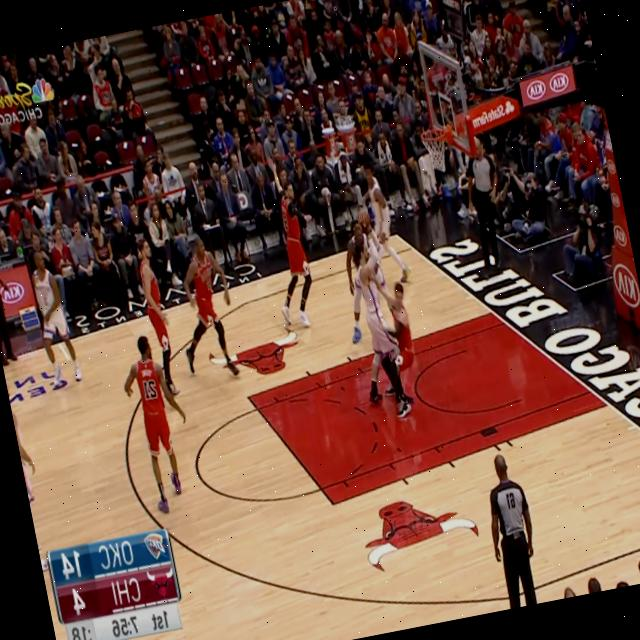foul: (327, 205, 443, 432)
